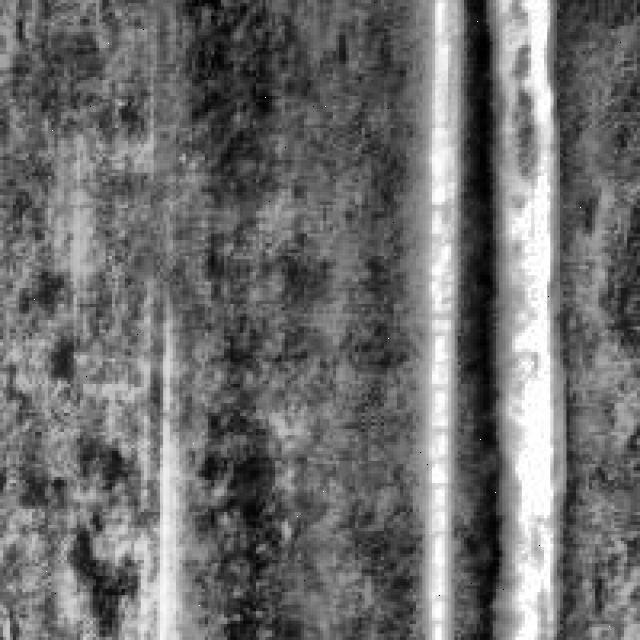Inclusion: (452, 0, 566, 634), (422, 0, 458, 634), (144, 288, 186, 637)
